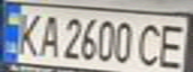0: (112, 18, 139, 65), (97, 16, 118, 63)
2: (60, 14, 84, 61)
6: (78, 15, 100, 62)
A: (33, 10, 63, 58)
C: (136, 19, 166, 69)
E: (154, 20, 190, 70)
K: (12, 9, 45, 57)
